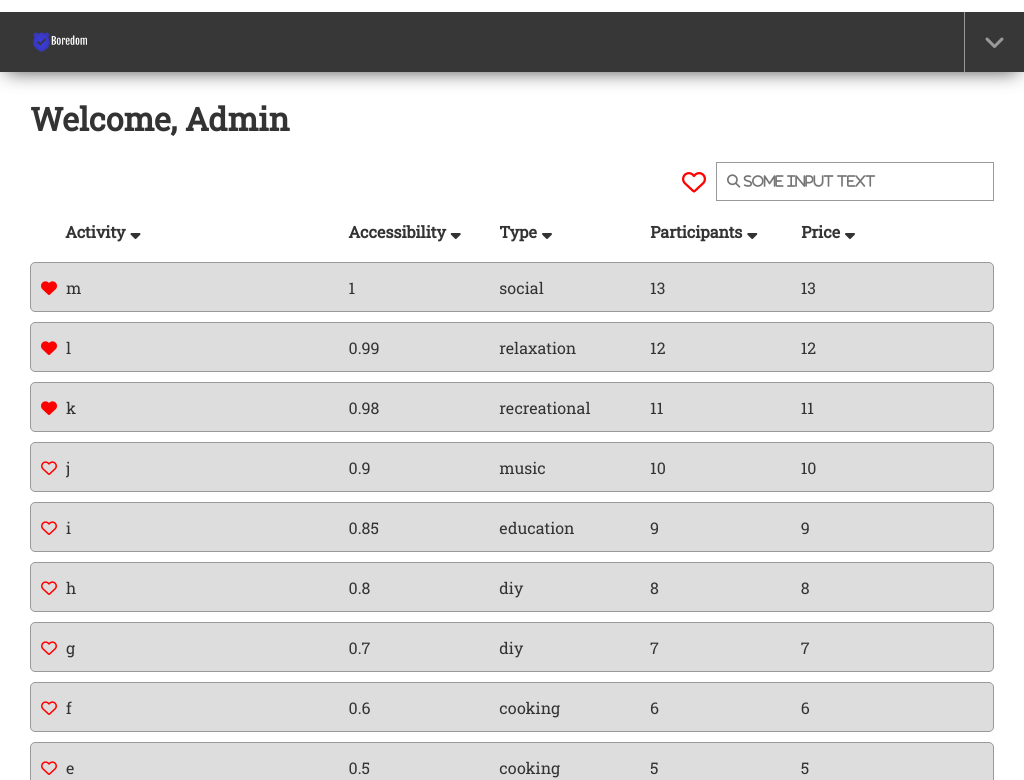
Test: Activities Dashboard Page (Integration) › Filtering › Should show all favourites from store when filtering for favourites
Click the element with test id "fav-filter".
click(694, 182)  # box [682, 170, 706, 194]
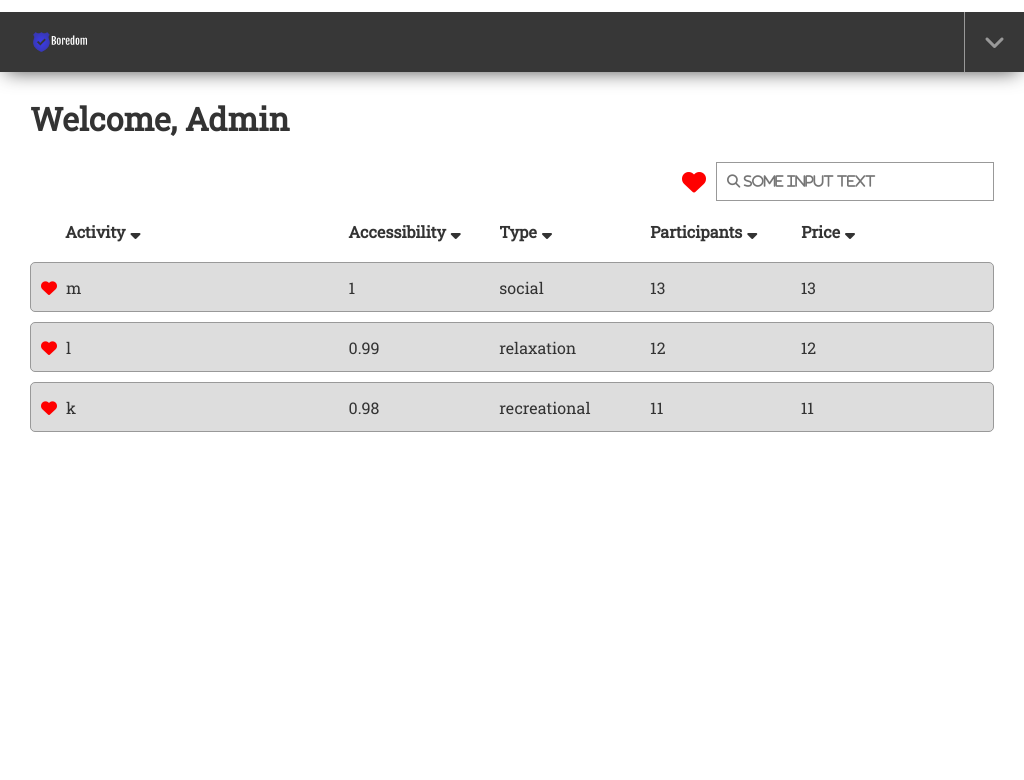
Expected: the number of elements with test id "list__item-container" is 3, [30, 262, 994, 312]; [30, 322, 994, 372]; [30, 382, 994, 432]
